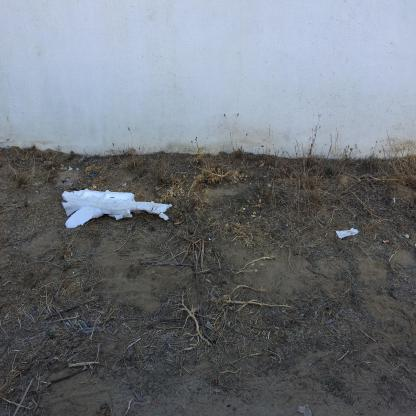kagit: (335, 228, 359, 238)
kopuk: (61, 188, 172, 229)
